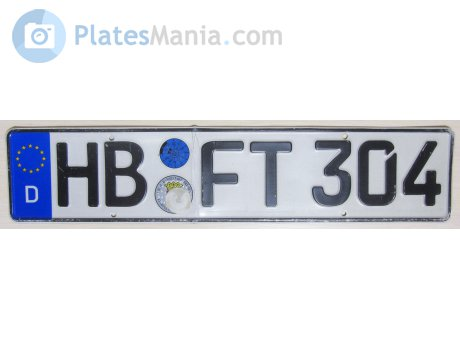License Plates: (57, 129, 445, 212)
